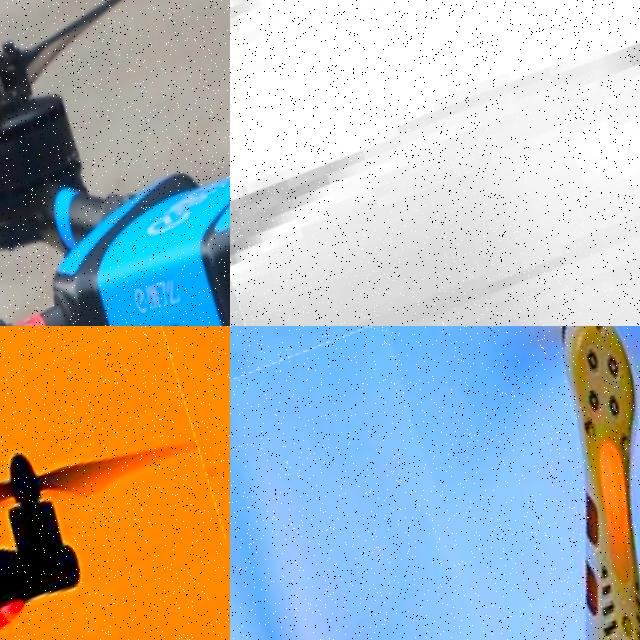0: (230, 326, 640, 640)
drone: (230, 0, 640, 326), (0, 0, 230, 326), (0, 326, 230, 640)
